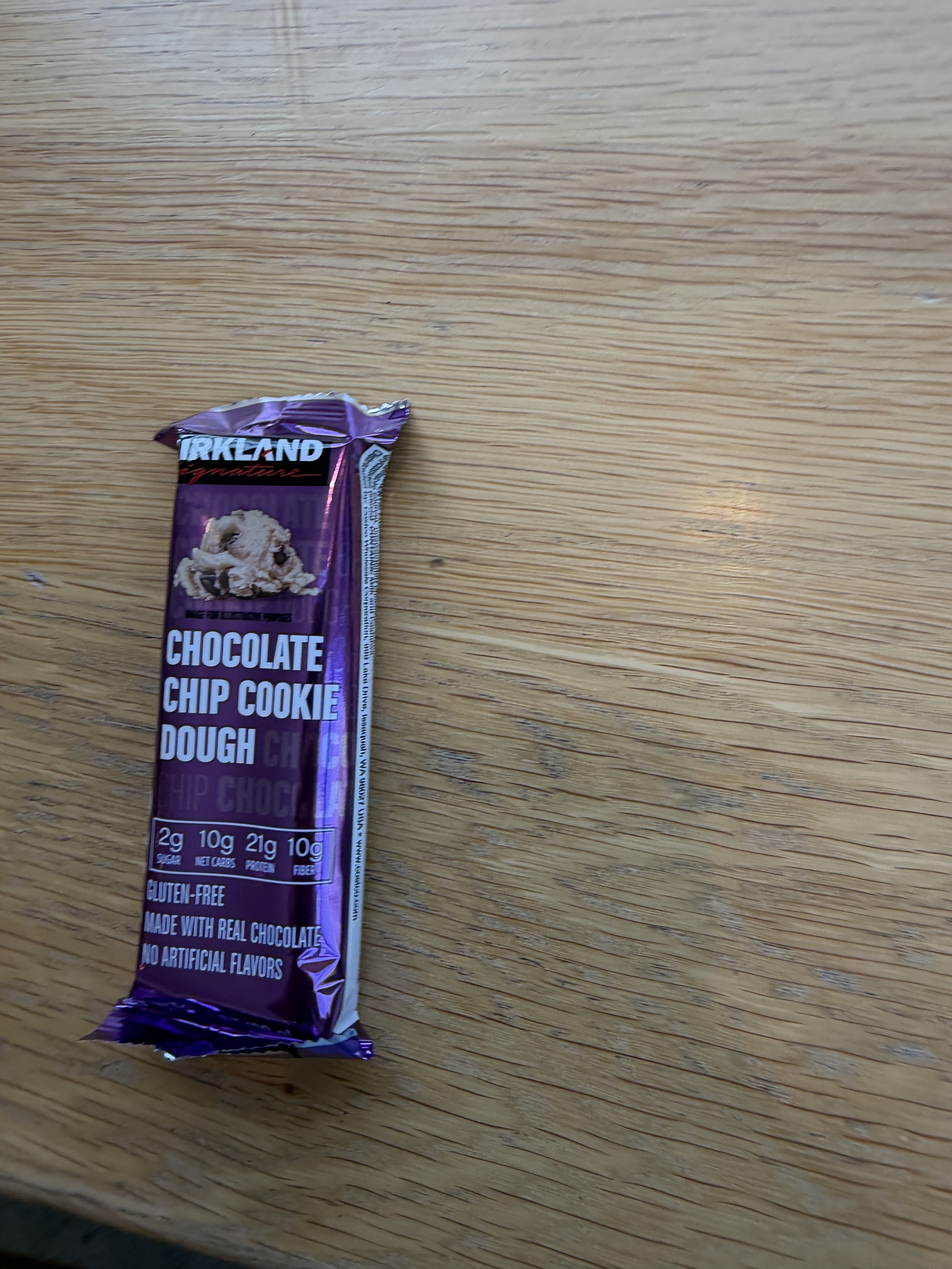chocolate_chip_cookie_dough: (109, 370, 405, 1095)
